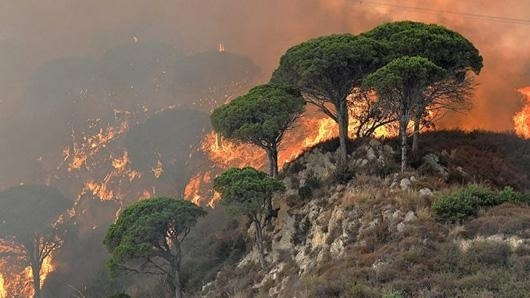fire: (184, 125, 269, 197), (339, 84, 440, 141)
